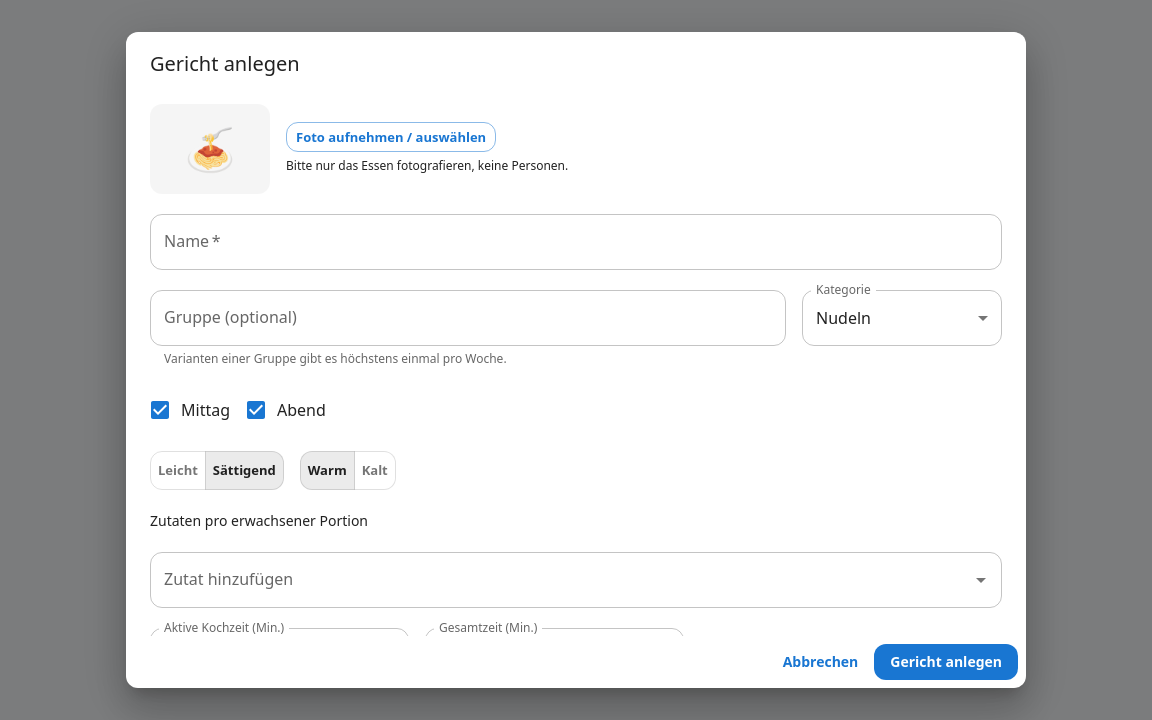
Scenario: DishEditorDialog (FOOD-010) › asks for the weight of a counted ingredient
Type "Wrap" into the dropdown labelled "Zutat hinzufügen" at coordinates (561, 580), box [159,561,963,599]
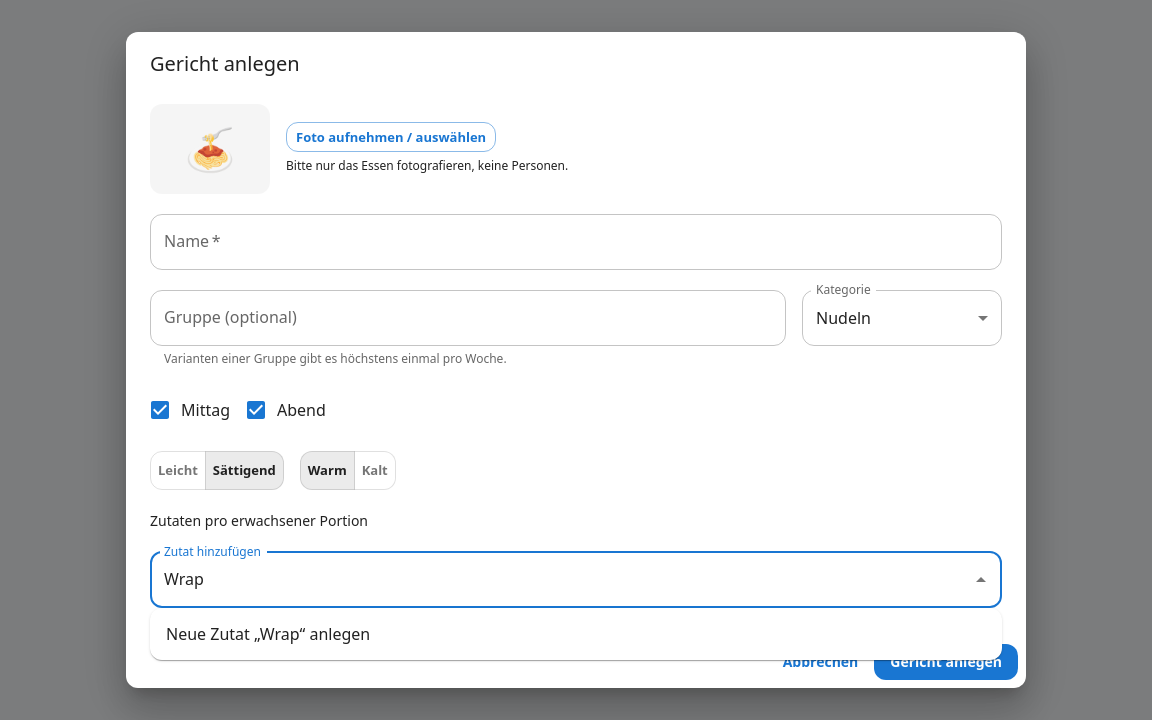
Click the option "Neue Zutat „Wrap“ anlegen" at coordinates (268, 634), box [166,623,370,645]
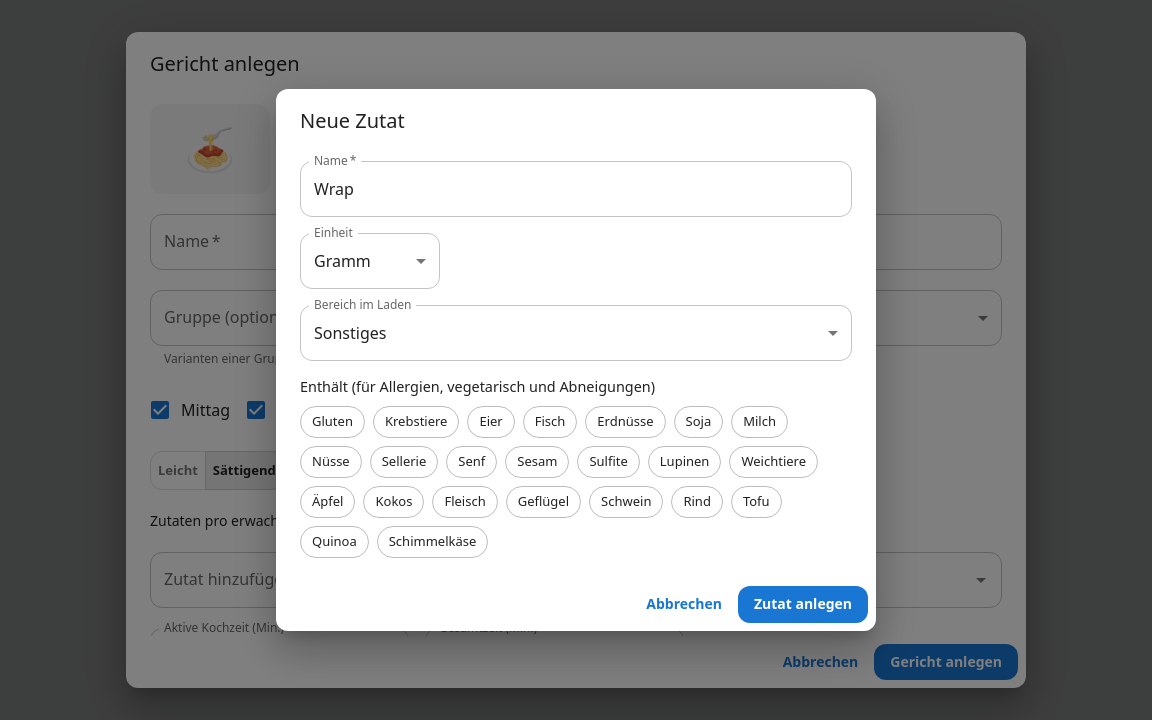
Click the dropdown named "Einheit" at coordinates (342, 261), box [314,250,371,272]
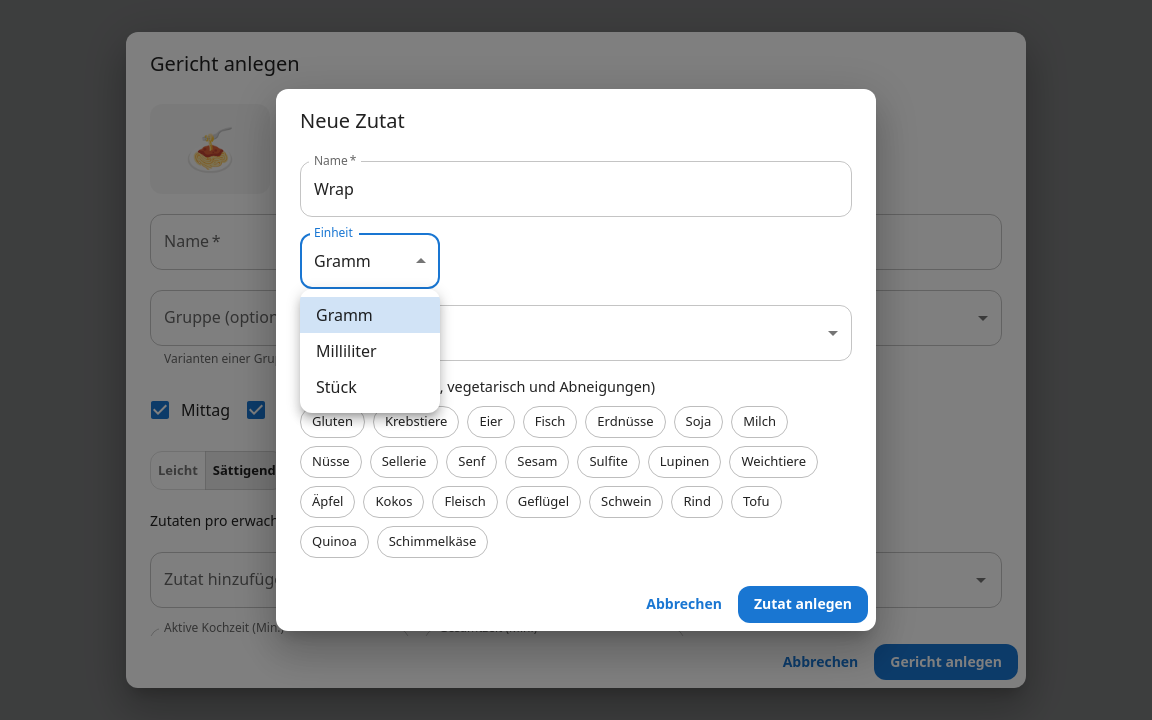
Click the option "Stück" at coordinates (336, 387), box [316,376,357,398]
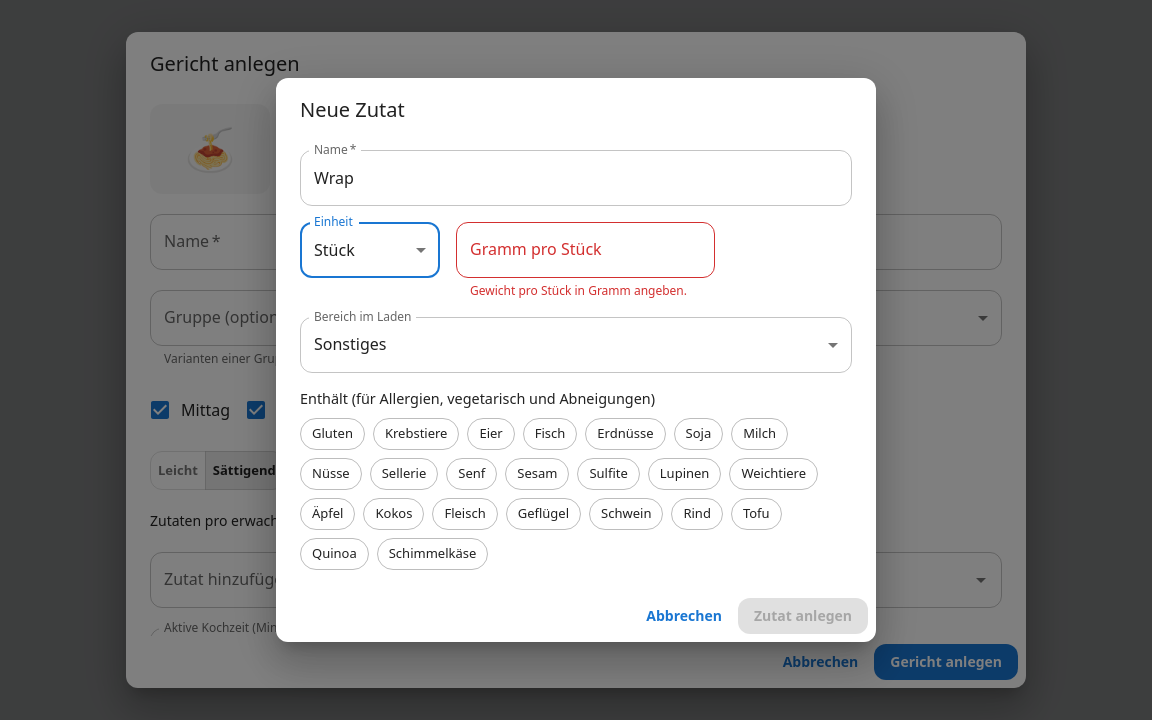
Check: the text "Gewicht pro Stück in Gramm angeben." is shown, box [470,281,701,301]
Check: the button "Zutat anlegen" is disabled, box [738,598,868,634]
Type "60" into the number field labelled "Gramm pro Stück" at coordinates (586, 250), box [456,222,715,278]
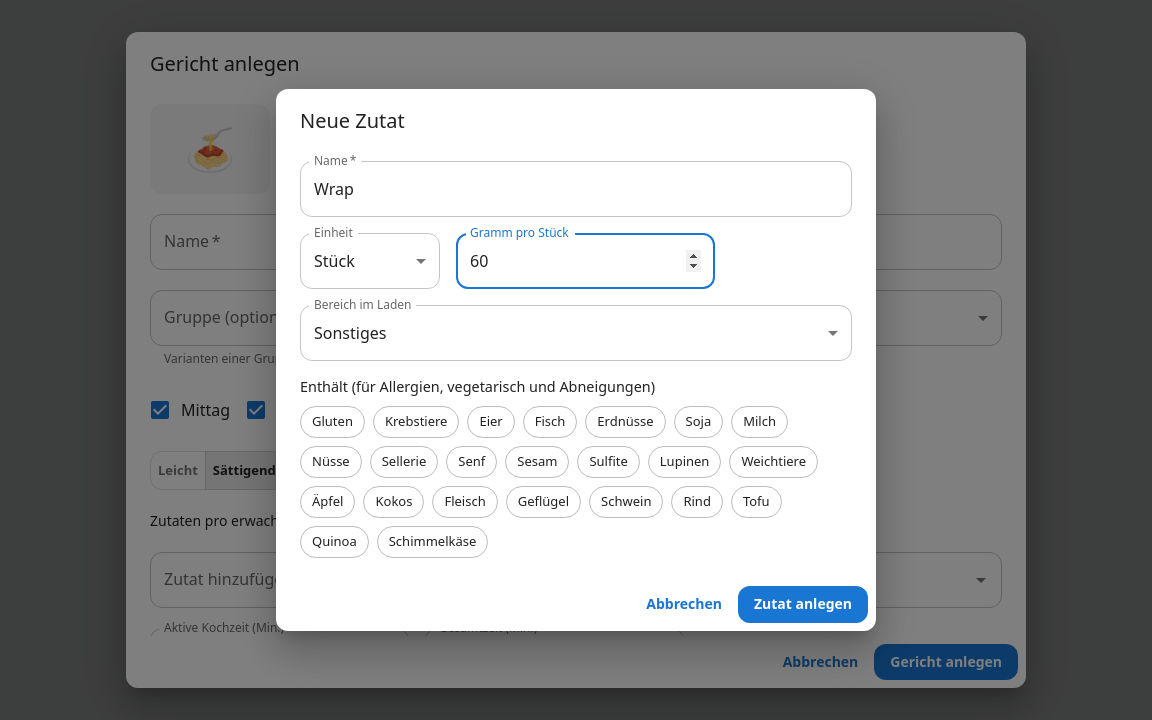
Check: the button "Zutat anlegen" is enabled, box [738,586,868,622]
